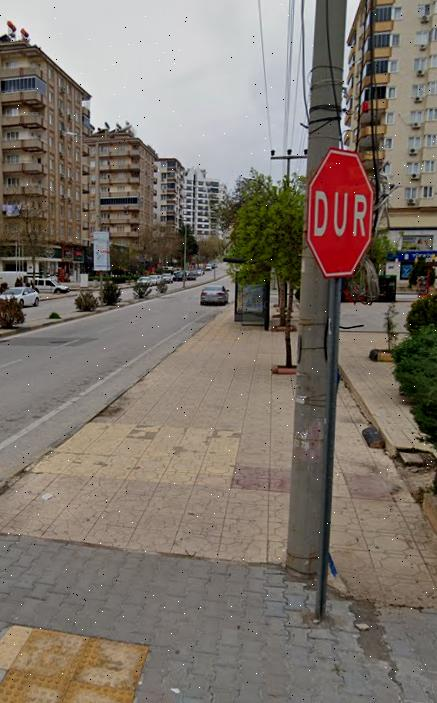stop: (309, 148, 373, 276)
